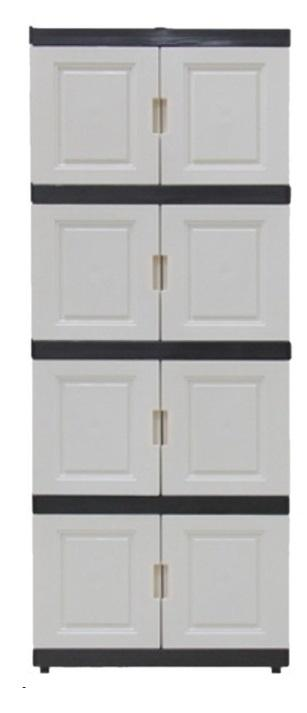cabinet_door: (30, 356, 162, 499), (161, 203, 290, 343), (158, 49, 289, 183), (166, 513, 292, 651), (161, 360, 292, 492), (31, 207, 159, 341), (31, 52, 158, 186), (32, 518, 159, 652)
handle: (150, 558, 163, 600), (161, 557, 173, 602), (151, 408, 162, 451), (160, 250, 171, 292), (160, 409, 172, 447), (150, 93, 160, 136), (159, 94, 169, 136), (151, 248, 160, 293)
